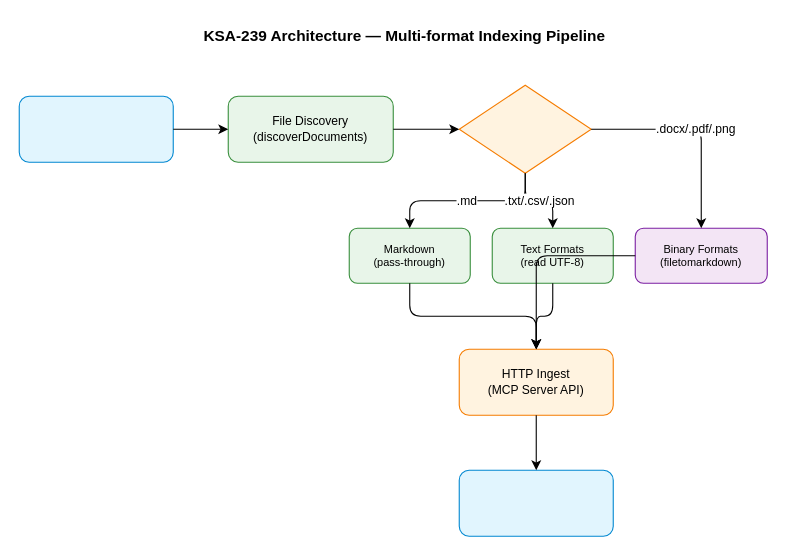
Image size: 787x556. Some labels were removed from this diagram. Each missing label, with the centre of its shape:
"Command Handler (VS Code)" belongs at point 95,128.
"Format Router" belongs at point 524,128.
"Knowledge Base (Semantic Search)" belongs at point 535,502.
